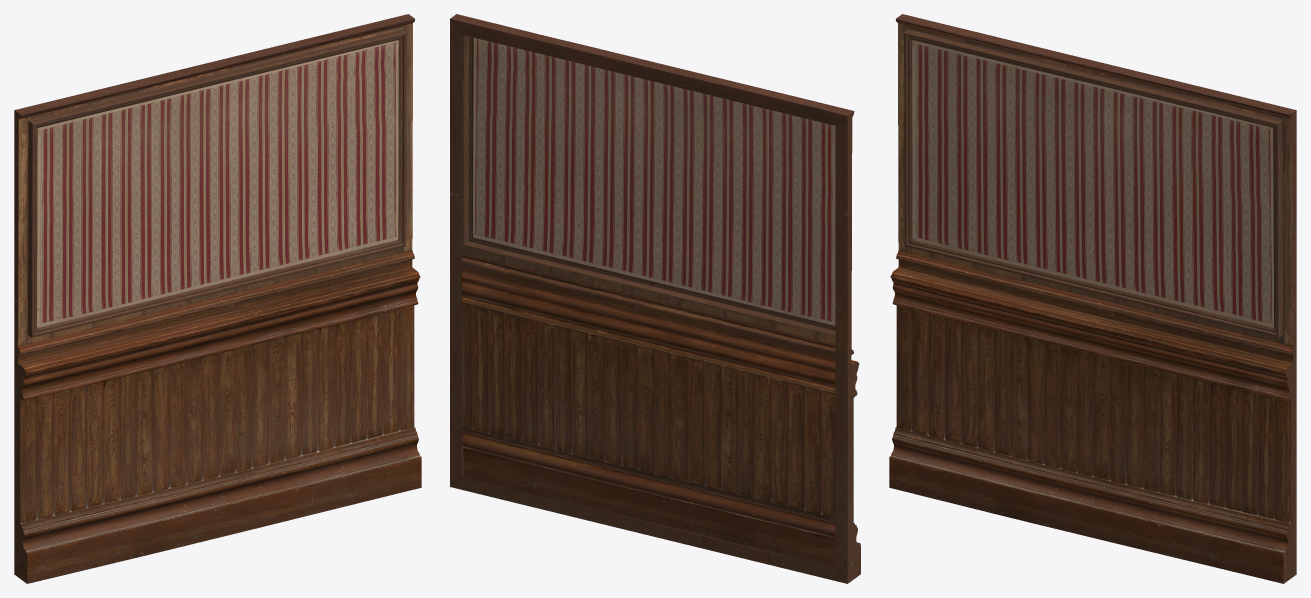
File: modular_wall_04 (1).glb
3 views of the same model, side by side, from view 1: azimuth 30°, elevation 25°; view 2: azimuth 150°, elevation 25°; view 3: azimuth 330°, elevation 25° (orthographic).
Visible parts, largest first — view 1: Aset_interior_wall_M_wbolfcadw_LOD0; view 2: Aset_interior_wall_M_wbolfcadw_LOD0; view 3: Aset_interior_wall_M_wbolfcadw_LOD0.
Boxes of the visible parts, box(x1,y1,x2,y2) form: Aset_interior_wall_M_wbolfcadw_LOD0: box(14, 14, 421, 583); Aset_interior_wall_M_wbolfcadw_LOD0: box(450, 14, 860, 583); Aset_interior_wall_M_wbolfcadw_LOD0: box(889, 14, 1296, 583).
Bounding box in the file's own units: 2 × 2.25 × 0.1199.
Materials: 1 (1 with a texture image).
